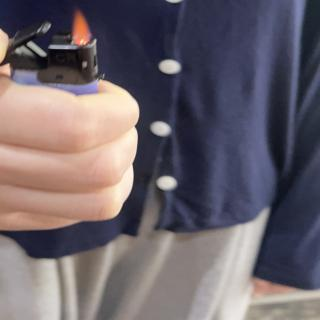fire: (70, 11, 90, 50)
